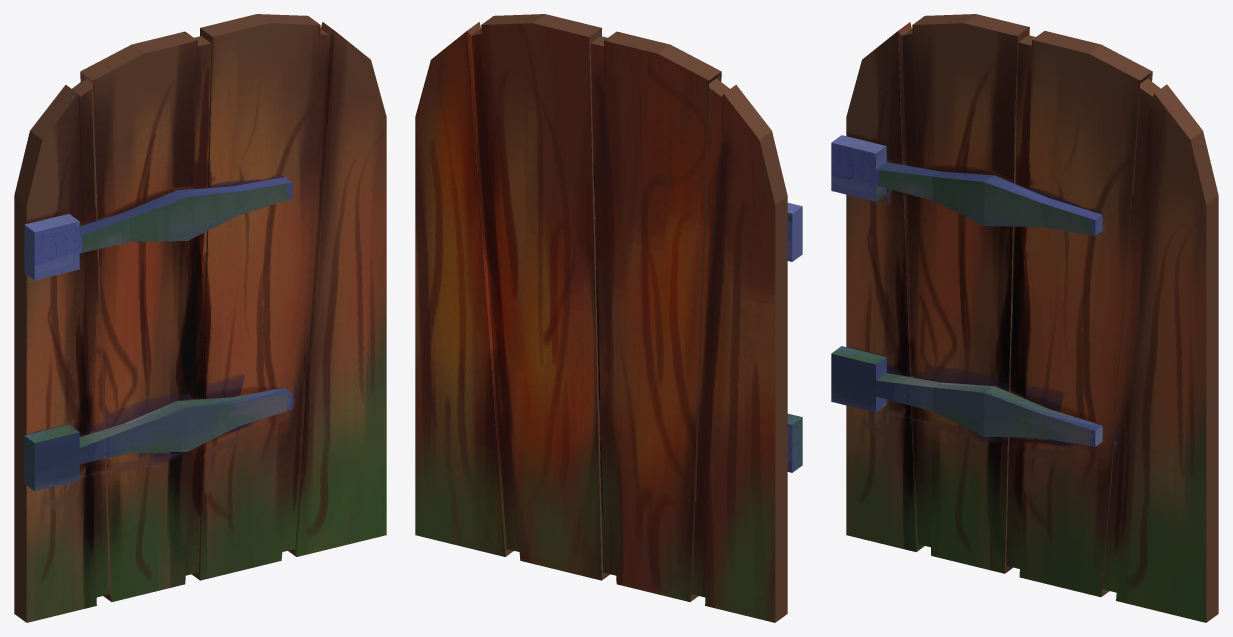
Rendered from Door_only.fbx.
3 renders of one model, left to right at view 1: azimuth 30°, elevation 25°; view 2: azimuth 150°, elevation 25°; view 3: azimuth 330°, elevation 25°, orthographic.
Visible parts, largest first — view 1: Door.001; view 2: Door.001; view 3: Door.001.
Part boxes in pixels (left/top/right/bottom): Door.001: left=14, top=14, right=386, bottom=622; Door.001: left=415, top=14, right=802, bottom=622; Door.001: left=831, top=14, right=1218, bottom=622.
Size of the model in its own units: 203 by 289 by 23.31.
